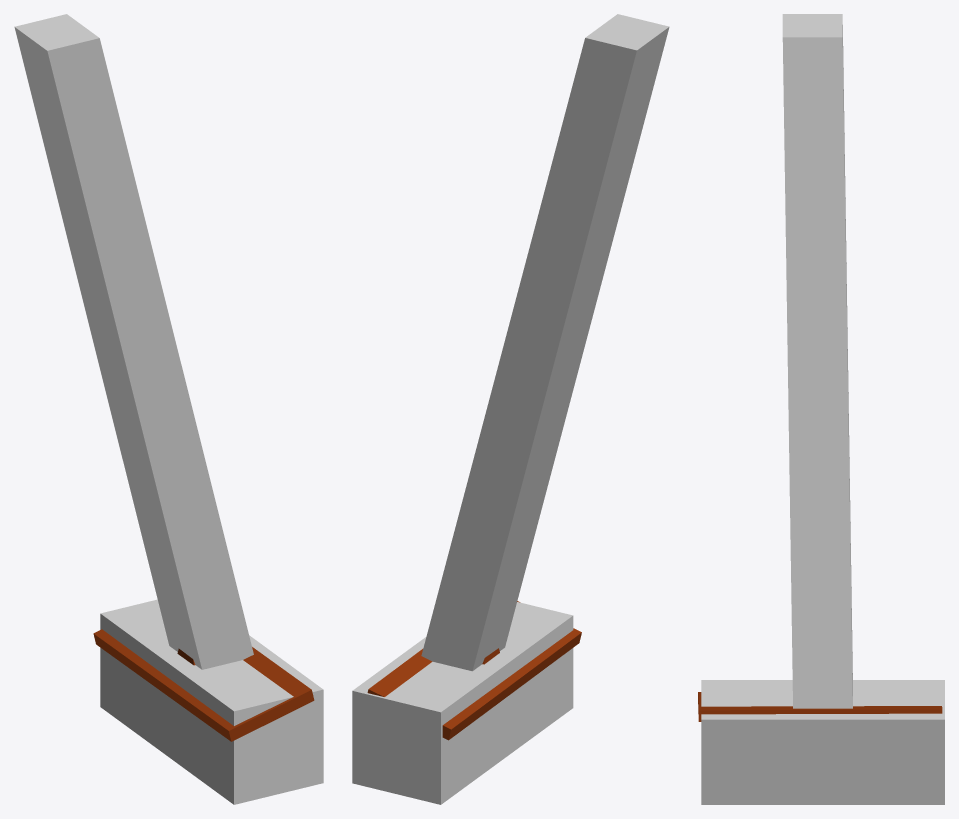
Rendered from besen.fbx.
The picture shows the model from 3 angles, left to right: view 1: azimuth 30°, elevation 25°; view 2: azimuth 150°, elevation 25°; view 3: azimuth 270°, elevation 25°; orthographic projection. The views are drawn at different scales.
Visible parts, largest first — view 1: Cube.010, Box002; view 2: Cube.010, Box002; view 3: Cube.010, Box002.
Part boxes in pixels (box(x1,y1,x2,y2)): Cube.010: box(14, 14, 323, 804); Box002: box(93, 629, 314, 741); Cube.010: box(352, 14, 669, 804); Box002: box(367, 601, 581, 740); Cube.010: box(701, 14, 944, 804); Box002: box(698, 692, 942, 721).
Size of the model in its own units: 328 by 1023 by 332.
